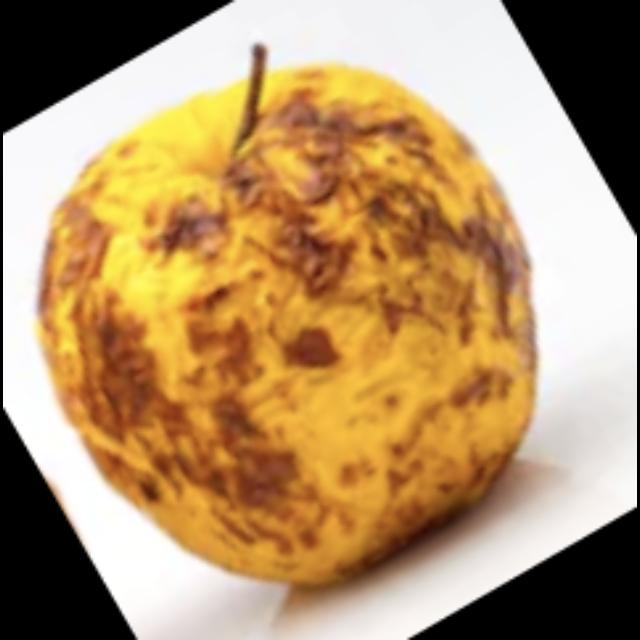Apel Tidak Segar: (36, 69, 541, 596)
